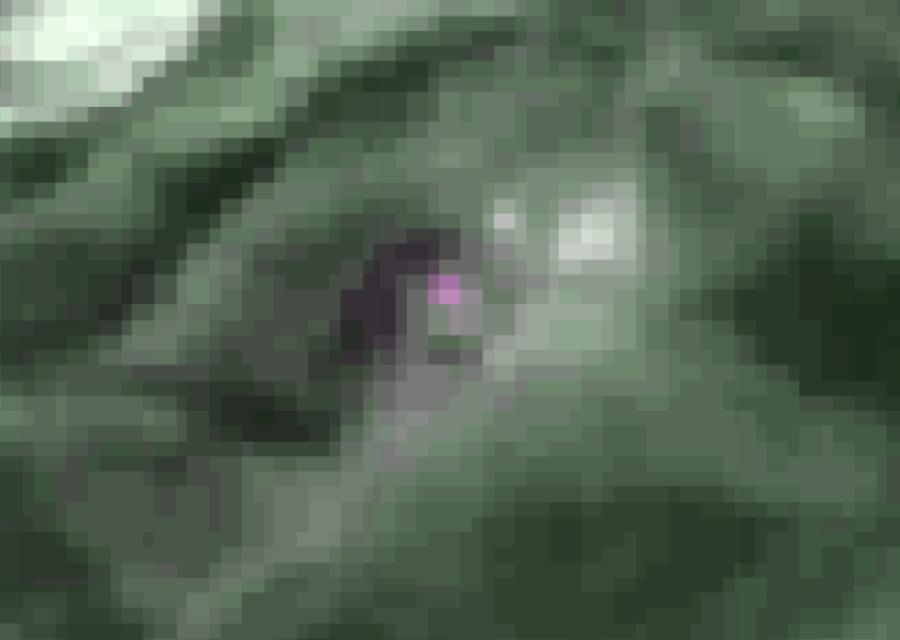Potential Lime Manufacturing Facility: (429, 275, 462, 305)
